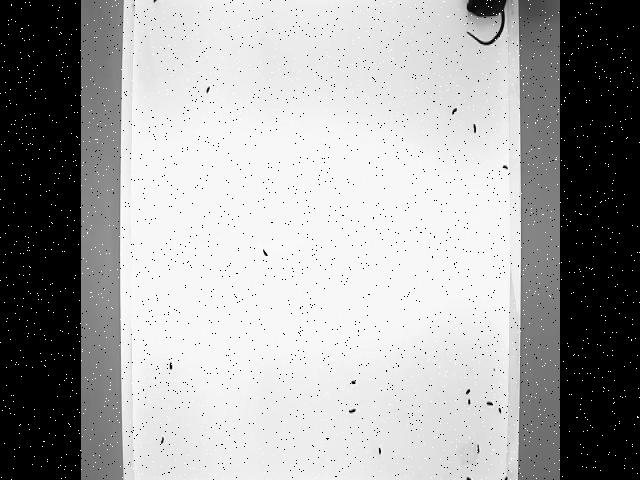Tikus: (461, 0, 510, 47)
